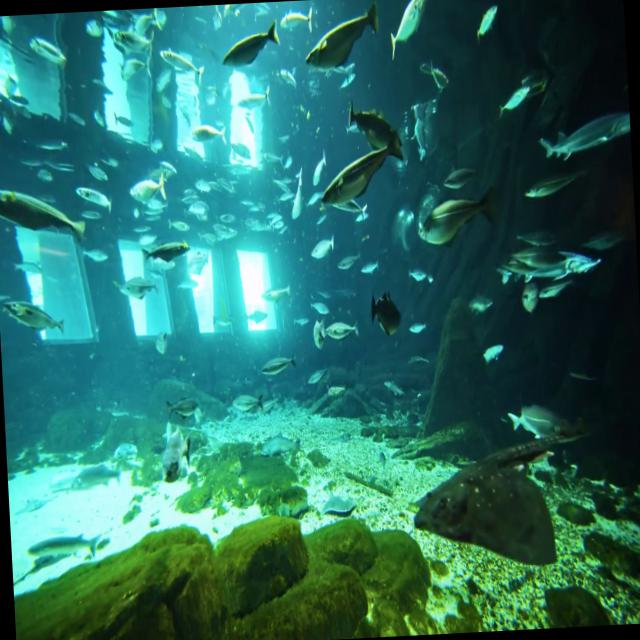fish: (485, 221, 599, 284), (0, 184, 89, 253), (533, 108, 632, 168), (328, 135, 410, 205), (299, 5, 384, 64), (218, 21, 282, 70), (386, 0, 435, 55)
